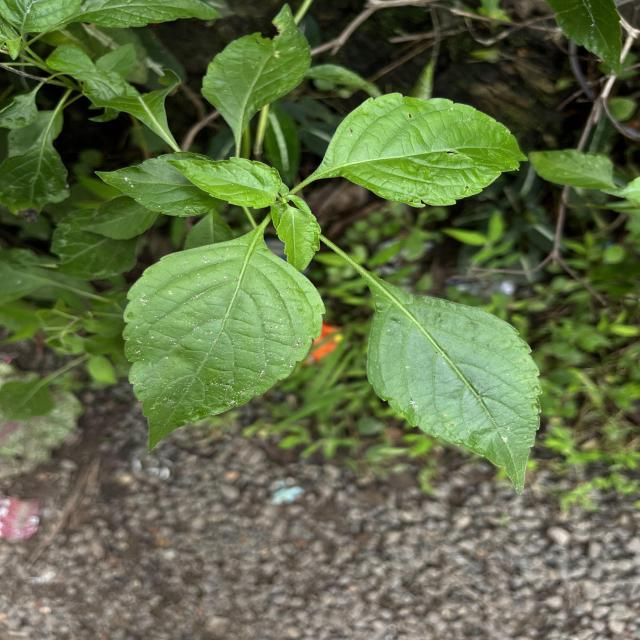Ocimum gratissimum: (119, 224, 328, 457), (354, 262, 547, 498), (310, 90, 530, 212), (199, 0, 315, 148), (160, 153, 286, 212)
